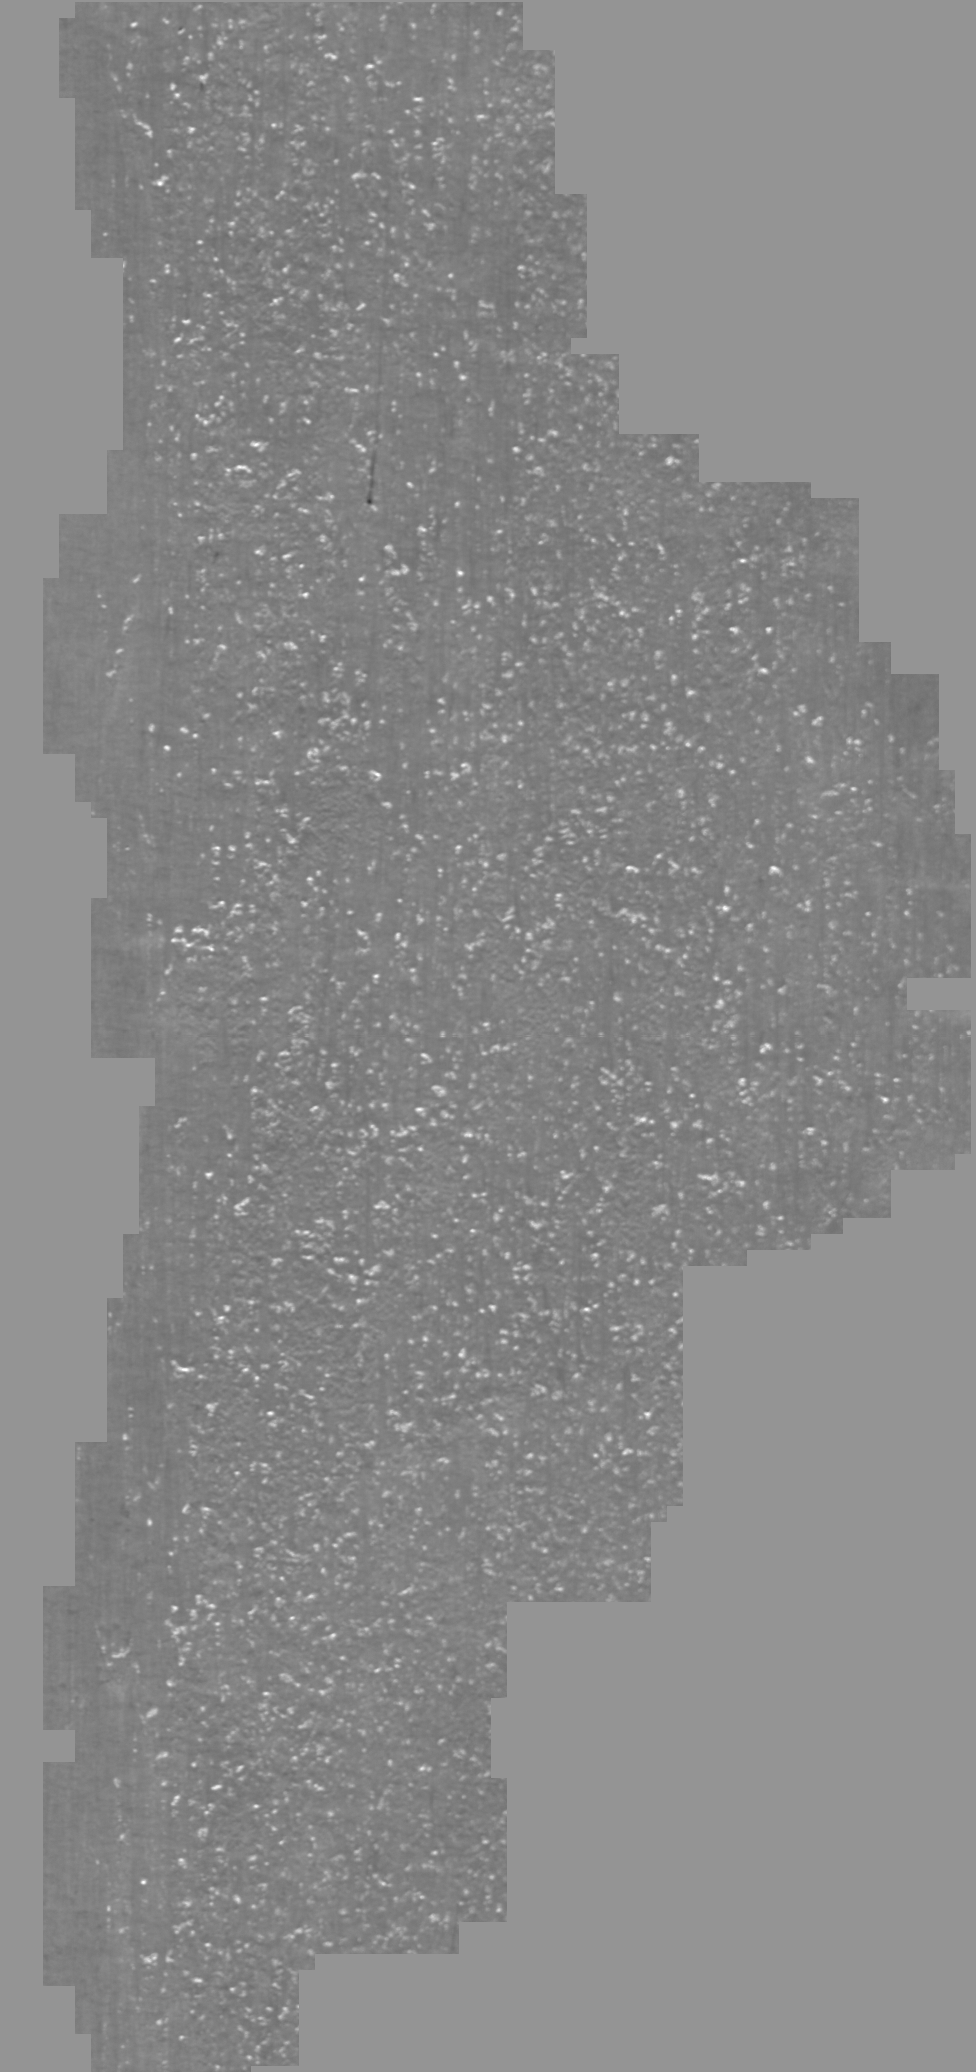oxl: (36, 11, 940, 2061)
